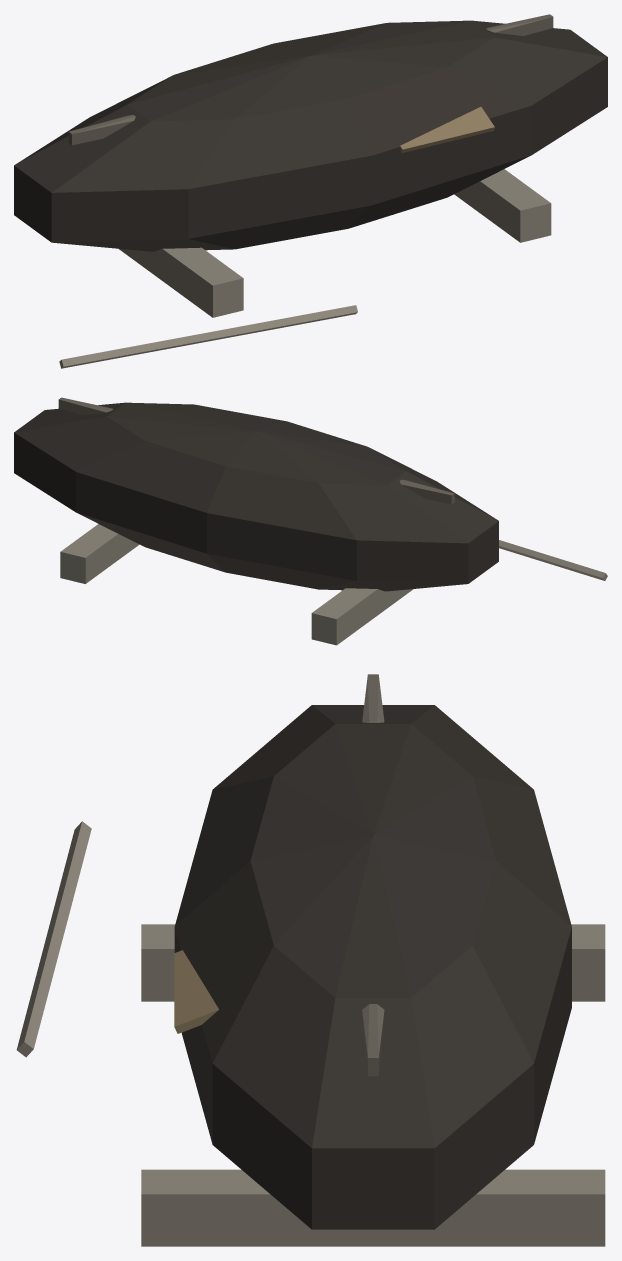
The model's file is a3h_boat_upturned.glb.
3 renders of one model, top to bottom at view 1: azimuth 30°, elevation 25°; view 2: azimuth 150°, elevation 25°; view 3: azimuth 270°, elevation 25°, orthographic. The views are drawn at different scales.
Parts seen in each view (by area): view 1: a3h_boat_upturned; view 2: a3h_boat_upturned; view 3: a3h_boat_upturned.
Part boxes in pixels (left/top/right/bottom): a3h_boat_upturned: left=14, top=14, right=607, bottom=368; a3h_boat_upturned: left=14, top=397, right=607, bottom=645; a3h_boat_upturned: left=16, top=674, right=605, bottom=1246.
Bounding box in the file's own units: 4.01 × 1.05 × 2.03.
